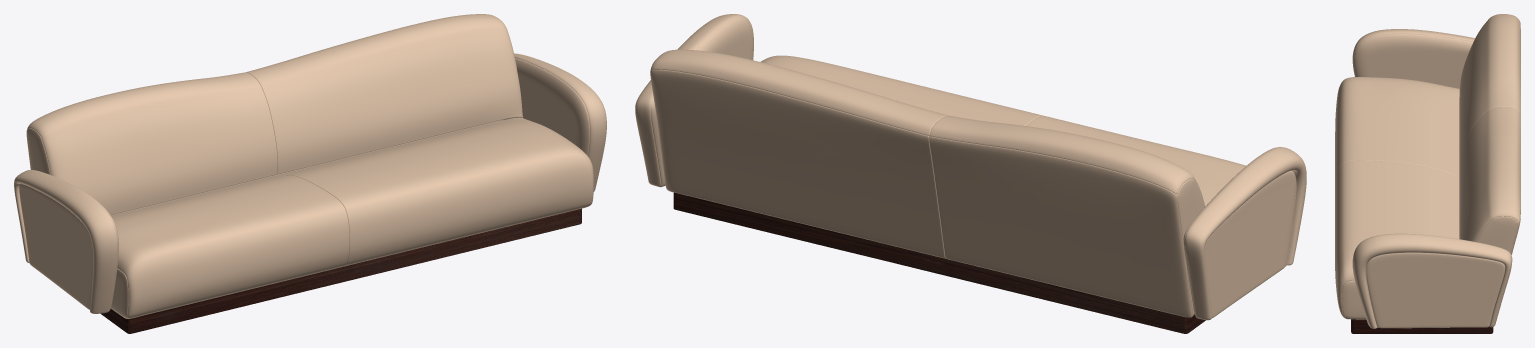
The model's file is Moon-Sofa-Larforma.glb.
3 renders of one model, left to right at view 1: azimuth 30°, elevation 25°; view 2: azimuth 150°, elevation 25°; view 3: azimuth 270°, elevation 25°, orthographic. The views are drawn at different scales.
Parts seen in each view (by area): view 1: Moon.002, Moon.003, Moon.001, Moon; view 2: Moon.002, Moon.001, Moon, Moon.003; view 3: Moon.003, Moon.001, Moon.002, Moon.
Part boxes in pixels (box(x1,y1,x2,y2)): Moon.002: box(26, 14, 522, 215); Moon.003: box(111, 117, 593, 318); Moon.001: box(14, 53, 606, 313); Moon: box(101, 208, 581, 333); Moon.002: box(650, 49, 1205, 317); Moon.001: box(635, 14, 1306, 320); Moon: box(673, 192, 1205, 333); Moon.003: box(669, 55, 1245, 316); Moon.003: box(1335, 77, 1459, 319); Moon.001: box(1352, 29, 1512, 328); Moon.002: box(1459, 14, 1520, 254); Moon: box(1351, 319, 1493, 333).
Bounding box in the file's own units: 2.43 × 0.7053 × 0.8792.
2 materials, 1 textured.
